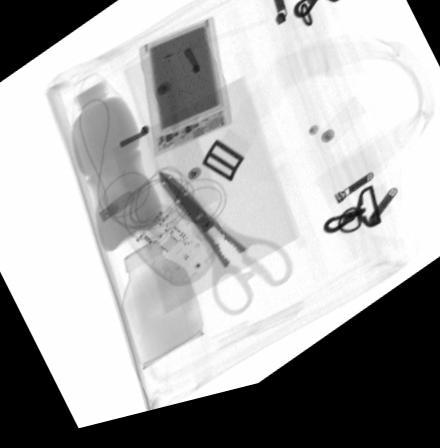Powerbank: (138, 23, 235, 165)
Scissors: (158, 173, 292, 327)
